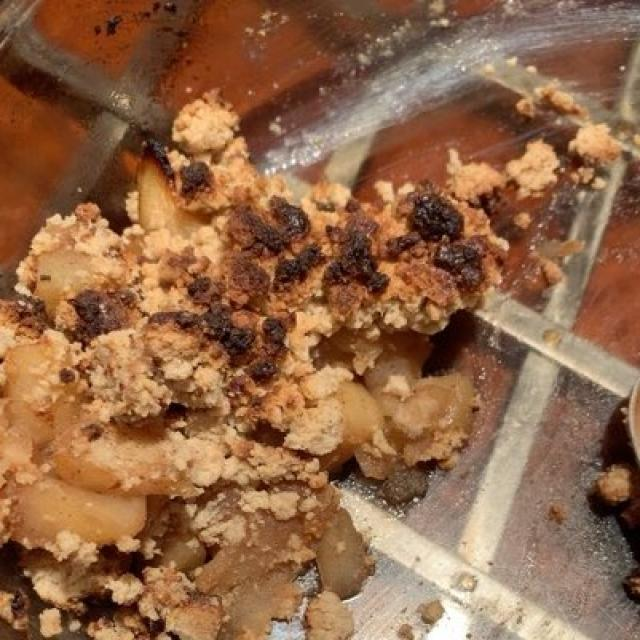apple-crumble: (2, 81, 626, 636)
